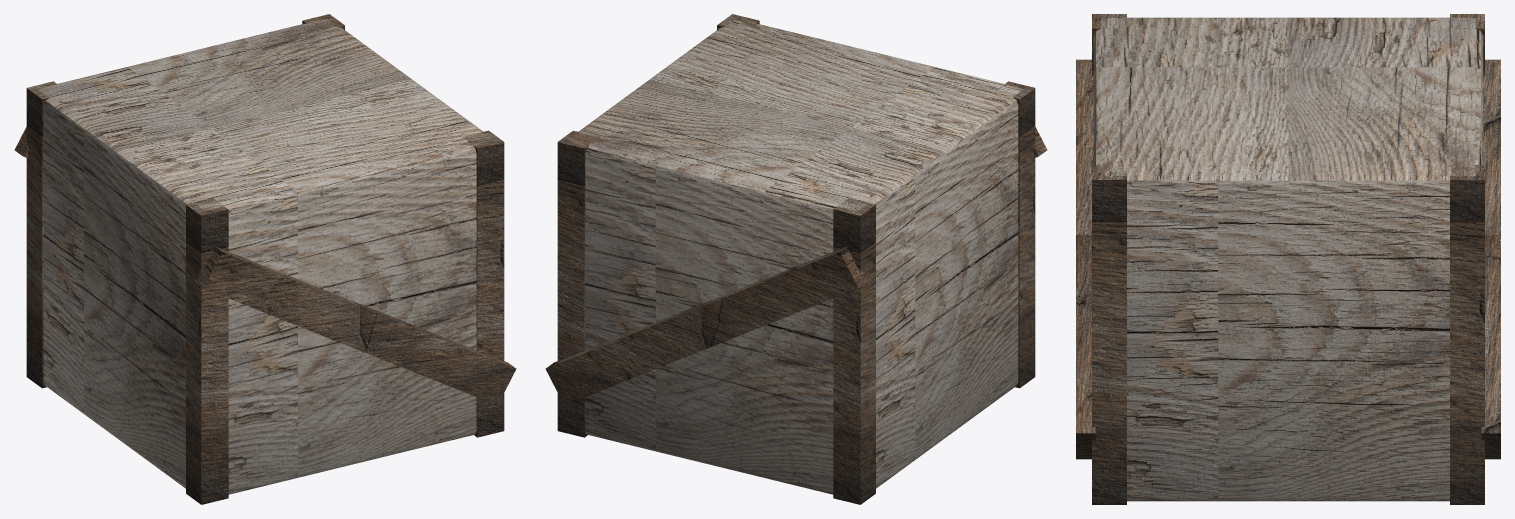
The model's file is crate-v02.glb.
3 renders of one model, left to right at view 1: azimuth 30°, elevation 25°; view 2: azimuth 150°, elevation 25°; view 3: azimuth 270°, elevation 25°, orthographic. The views are drawn at different scales.
Parts seen in each view (by area): view 1: crate; view 2: crate; view 3: crate.
Boxes of the visible parts, x1,y1,x2,y2 form: crate: [14, 14, 516, 504]; crate: [545, 14, 1047, 504]; crate: [1076, 14, 1500, 504].
Bounding box in the file's own units: 1.04 × 0.92 × 1.09.
2 materials, 2 textured.
